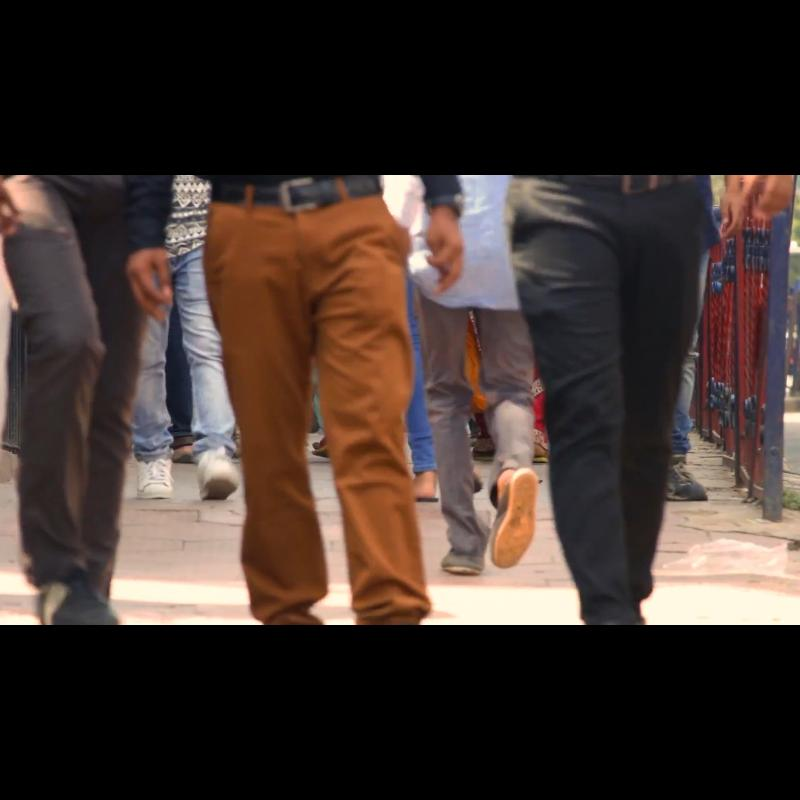Pant: (194, 213, 439, 625), (502, 175, 704, 619), (1, 176, 146, 624)
